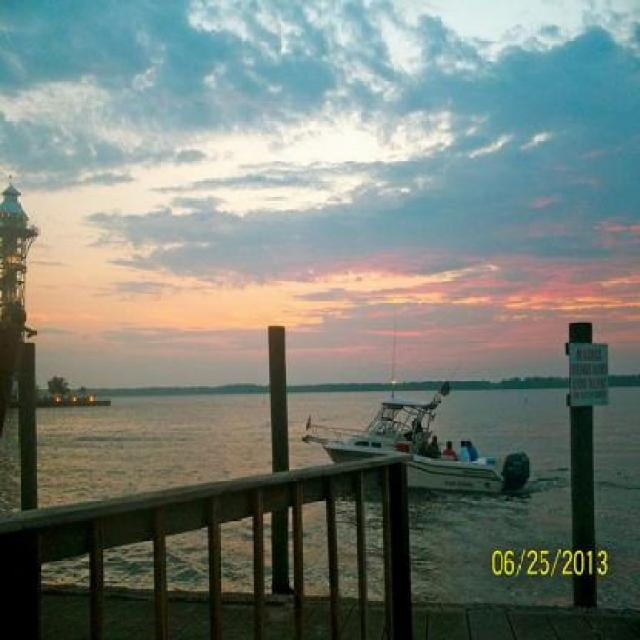ship: (298, 392, 530, 498)
